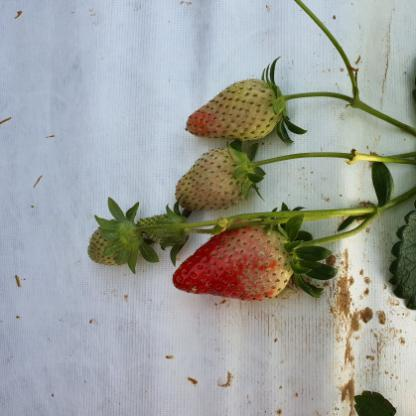Strawberry_Powdery_Mildew_Fruit: (171, 225, 296, 302)
